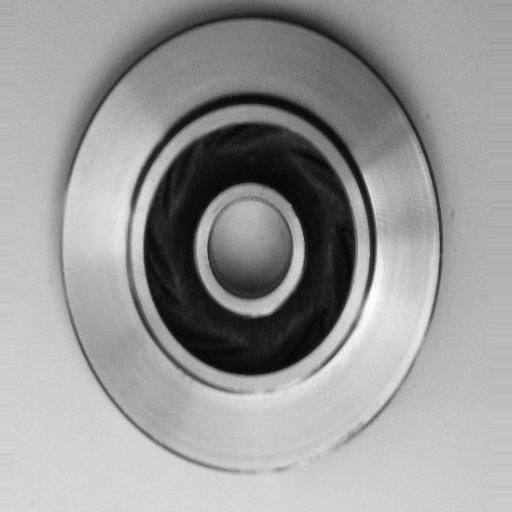scratch: (240, 429, 358, 493), (234, 364, 331, 404)
unpolished_casting: (60, 12, 446, 481)
